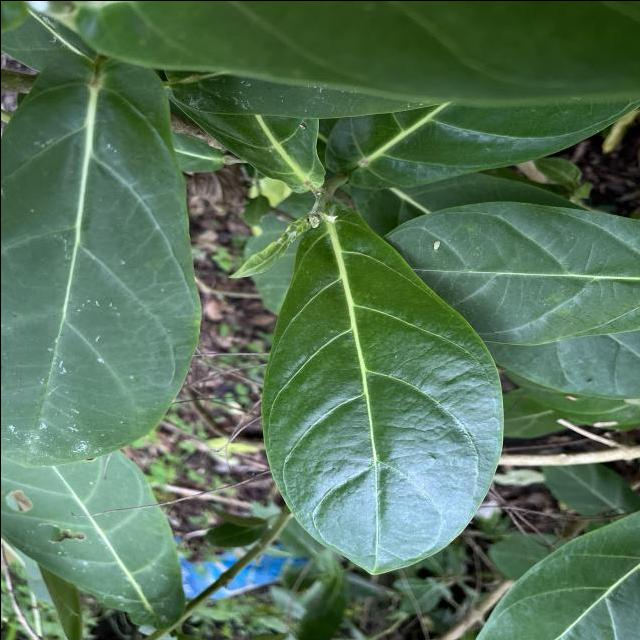Calotropis gigantea: (256, 200, 507, 576), (0, 61, 202, 470), (394, 196, 640, 346)
